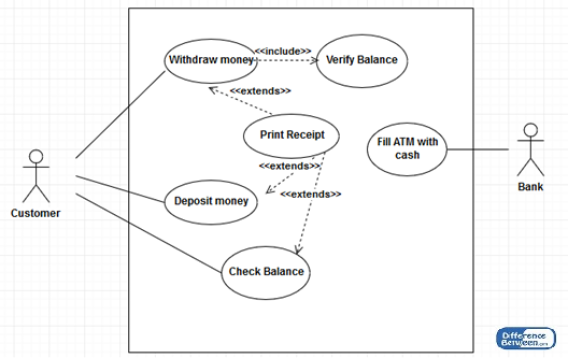actor: (19, 146, 57, 206), (514, 118, 548, 181)
association: (75, 191, 222, 273), (76, 68, 169, 160), (295, 154, 325, 254), (74, 172, 167, 203), (267, 156, 318, 194), (207, 85, 273, 114), (257, 52, 318, 67), (446, 142, 508, 156)
text: (376, 132, 439, 164), (256, 125, 332, 146), (171, 192, 250, 211), (227, 261, 305, 280), (167, 52, 253, 69), (323, 51, 402, 66), (259, 156, 322, 172), (229, 84, 294, 99), (278, 187, 344, 201), (254, 41, 314, 56), (8, 208, 65, 220), (516, 181, 546, 194)
use_case: (314, 33, 410, 89), (220, 245, 312, 301), (241, 112, 341, 161), (163, 178, 259, 227), (163, 37, 259, 85), (366, 122, 448, 178)
